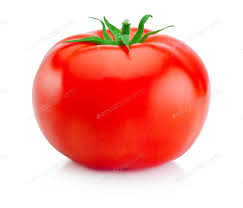tomato: (32, 28, 210, 166)
